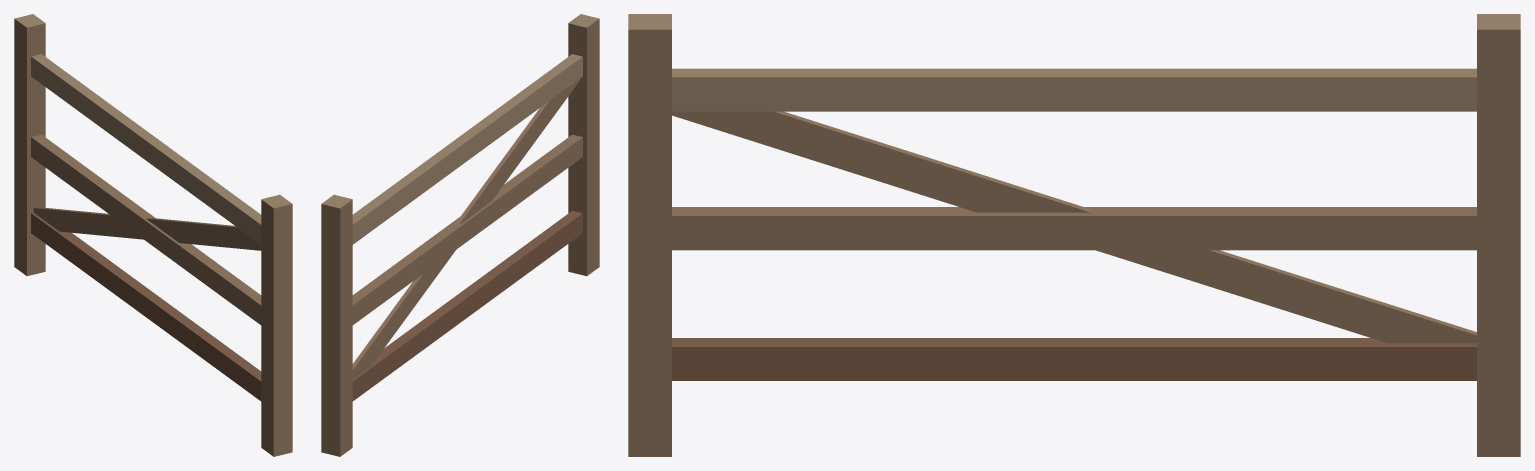
File: gate.glb
3 renders of one model, left to right at view 1: azimuth 30°, elevation 25°; view 2: azimuth 150°, elevation 25°; view 3: azimuth 270°, elevation 25°, orthographic. The views are drawn at different scales.
Visible parts, largest first — view 1: Gate.001; view 2: Gate.001; view 3: Gate.001.
Part boxes in pixels (x1=…): Gate.001: x1=14, y1=14, x2=292, y2=456; Gate.001: x1=321, y1=14, x2=599, y2=456; Gate.001: x1=628, y1=14, x2=1520, y2=456.
Size of the model in its own units: 0.0661 by 0.8344 by 1.58.
